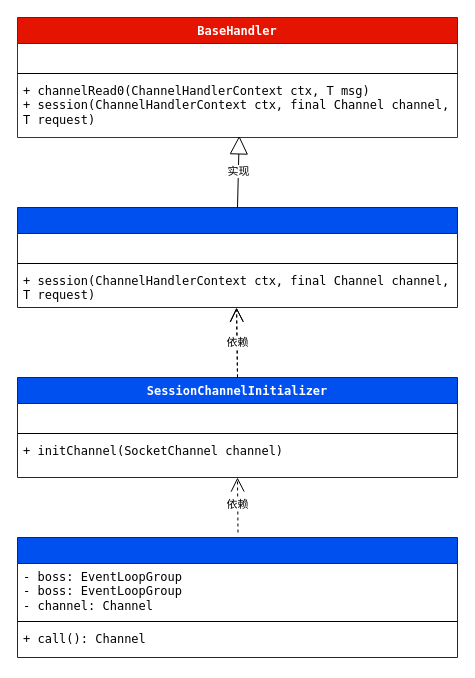
This 475x678 diagram has some shape labels left out. The shapes that lost their labels are listed below. From the top down, each one's box as (x1, y1, x2, y2) in pixels, then its label:
(16, 206, 458, 308): SessionServerHandler
(16, 536, 458, 658): SessionServer
